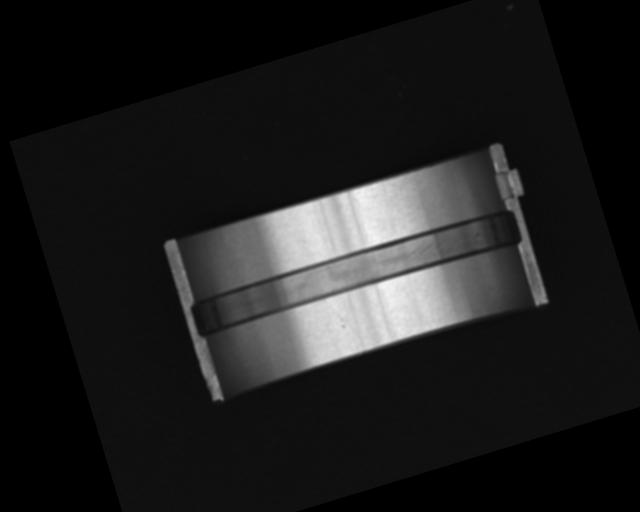gap: (186, 203, 526, 341)
